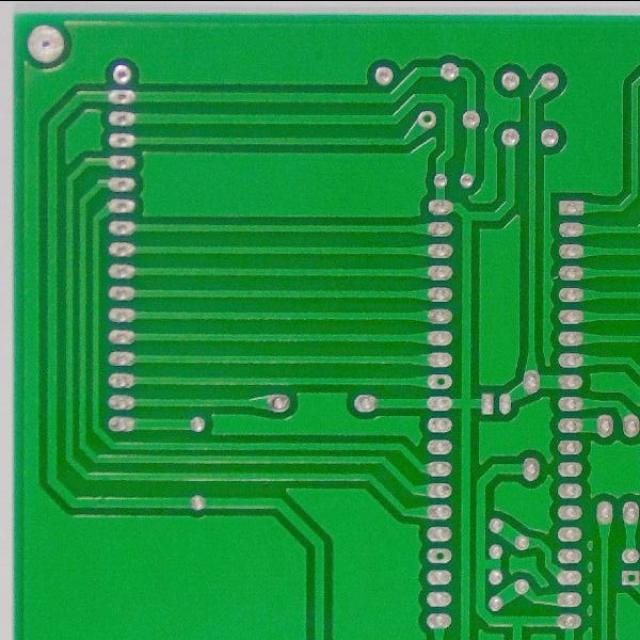Missing_Hole: (427, 370, 454, 392), (426, 545, 453, 565), (415, 109, 438, 130), (619, 565, 640, 587)
